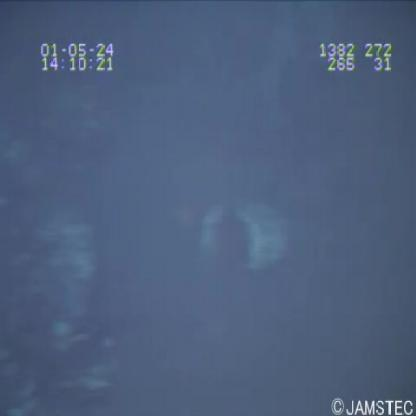Rác: (187, 188, 298, 282)
